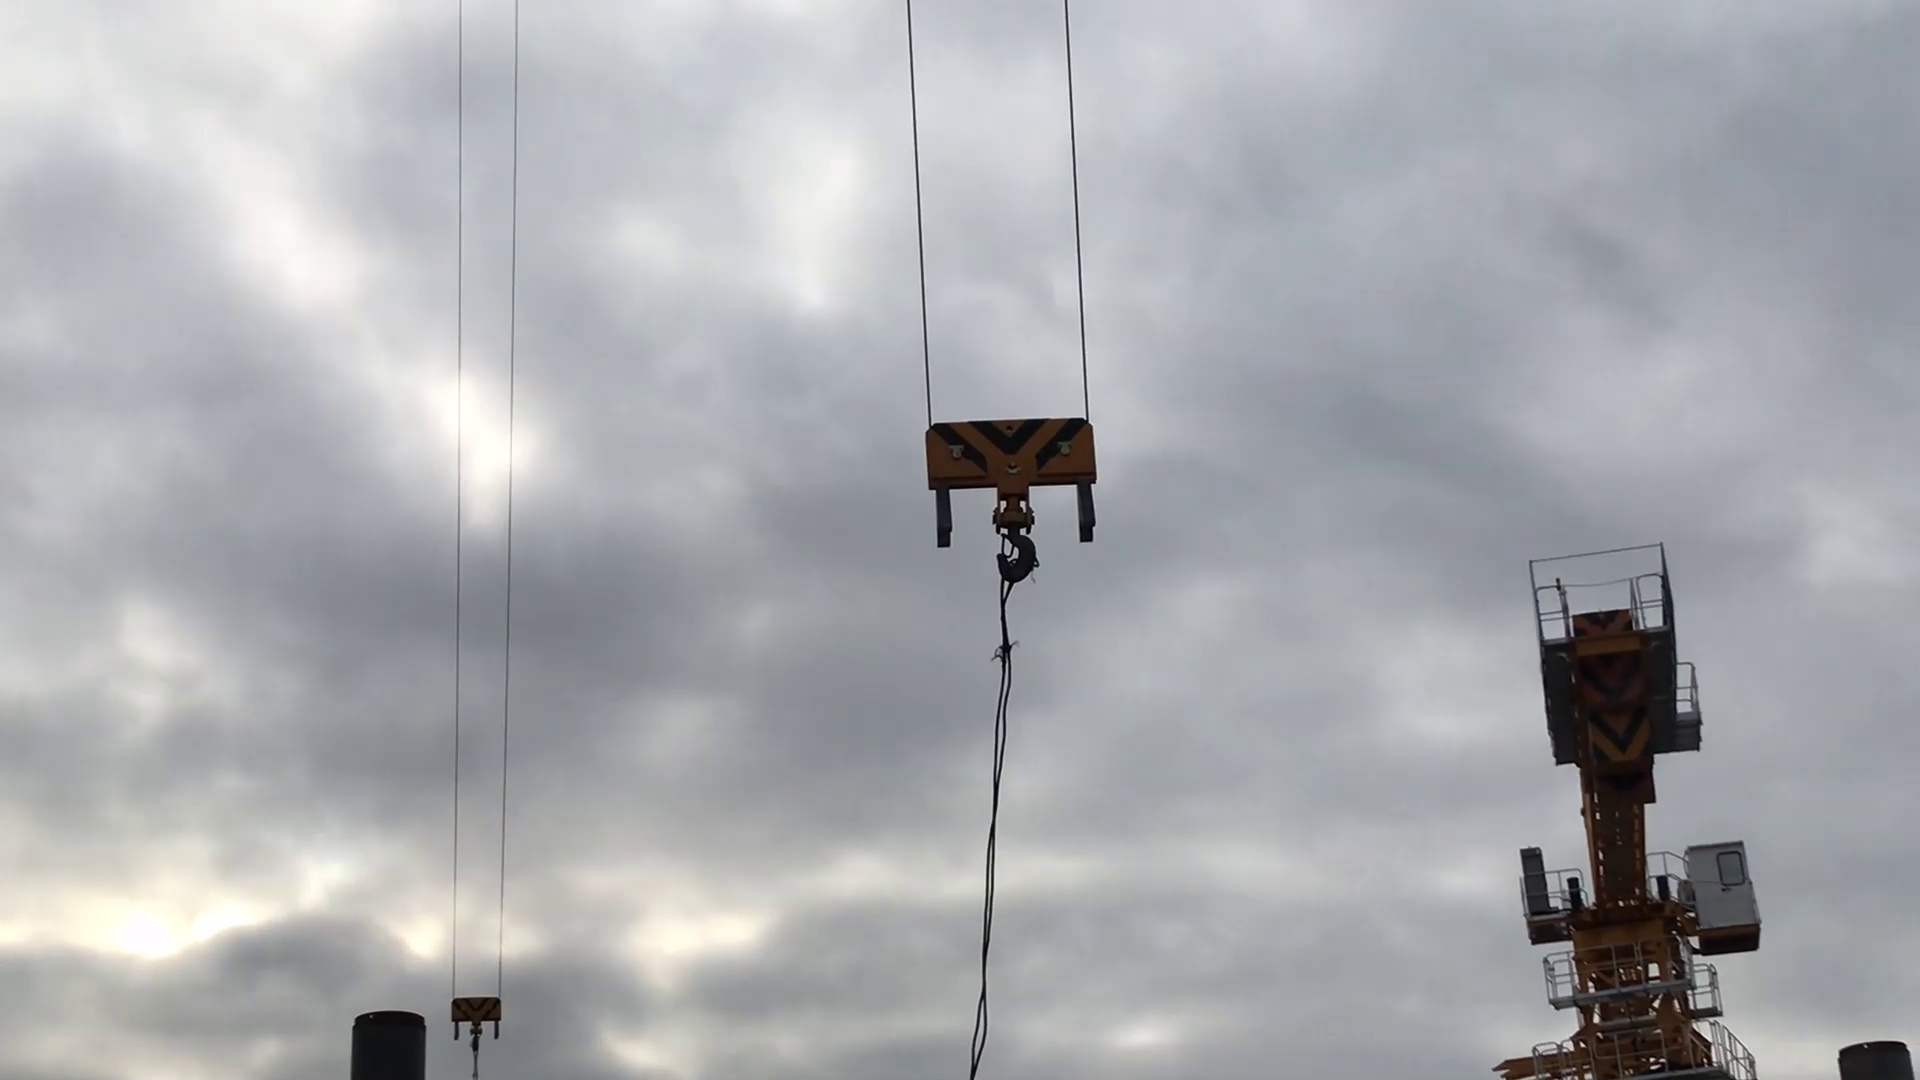hook: (918, 409, 1091, 578), (439, 990, 517, 1042)
